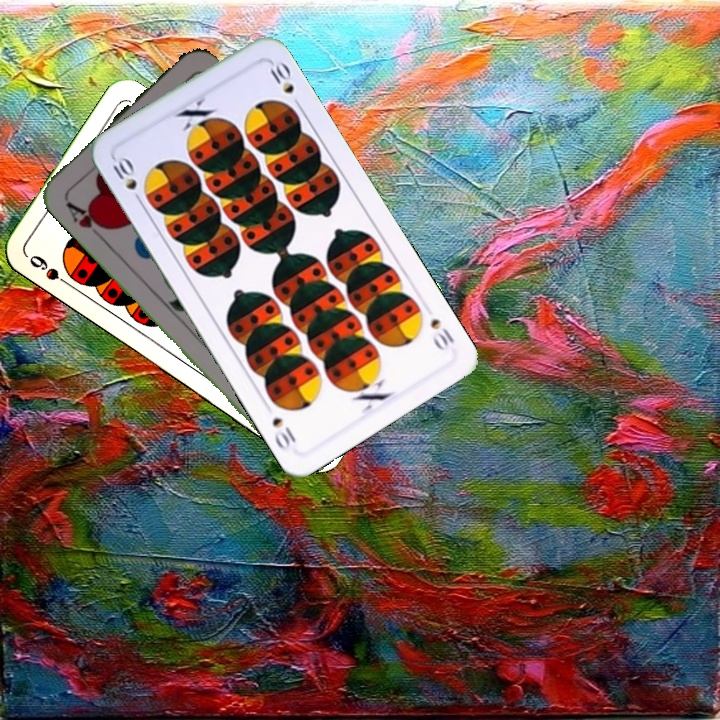HA: (61, 195, 111, 243)
S10: (108, 152, 146, 207), (426, 314, 457, 354)
S9: (25, 250, 76, 291)
